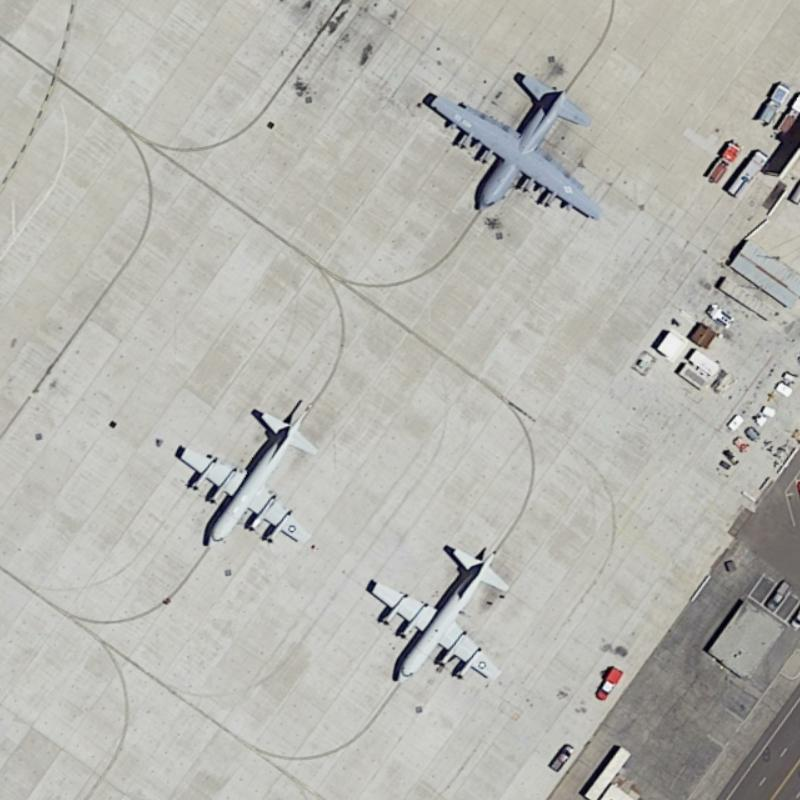A2: (418, 67, 608, 226)
A9: (169, 396, 319, 555), (359, 538, 509, 696)
